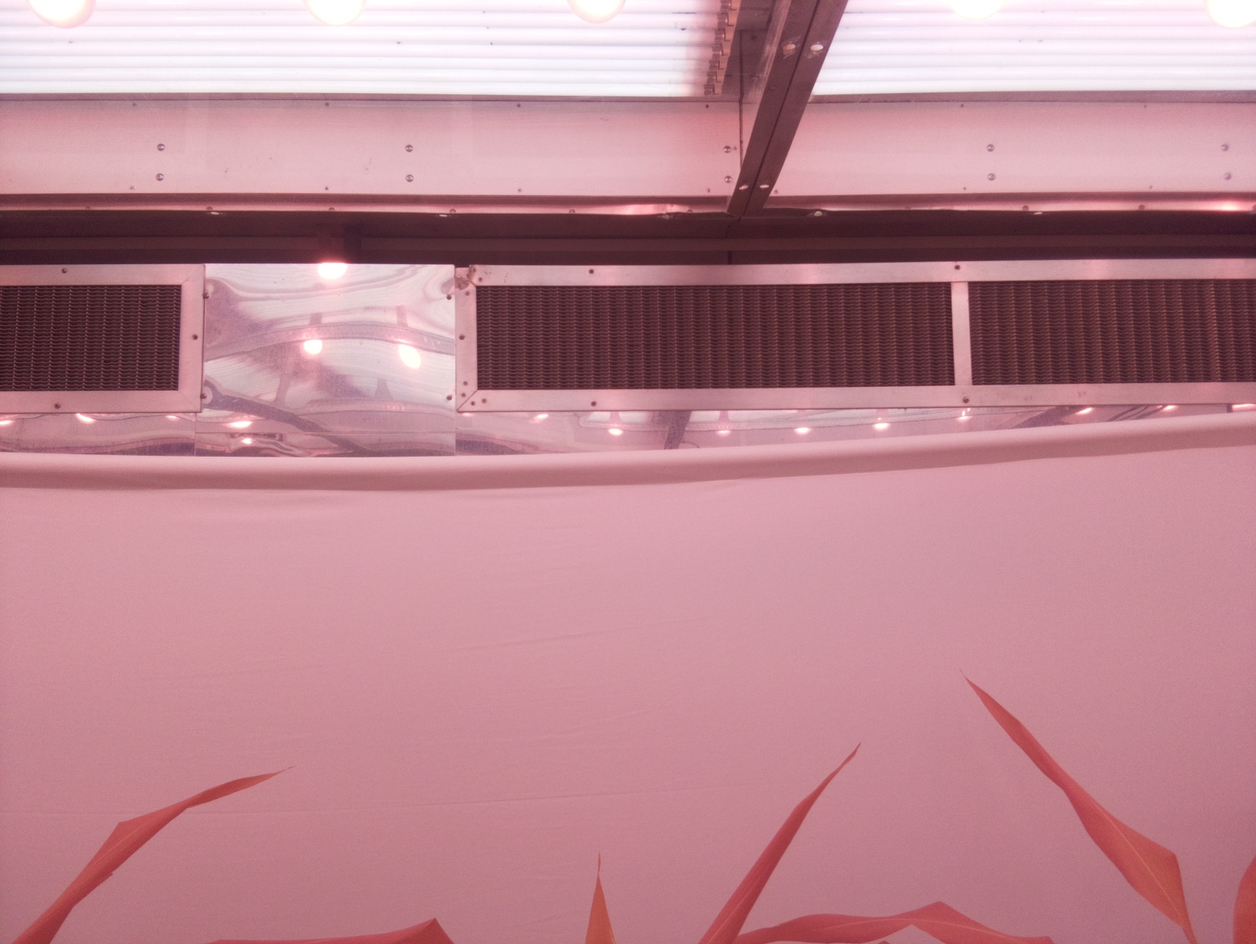maize: (584, 738, 1055, 944), (959, 668, 1256, 944), (11, 765, 455, 944)
